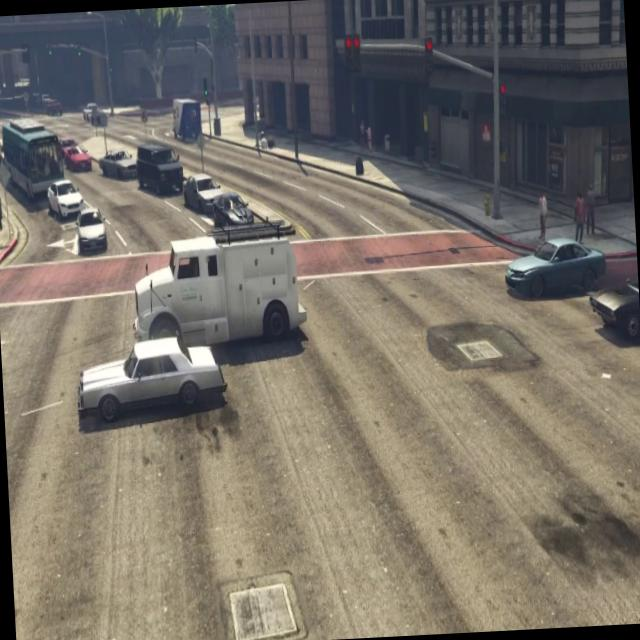Red-Signal: (486, 48, 518, 130), (414, 25, 443, 92), (340, 24, 369, 85)
